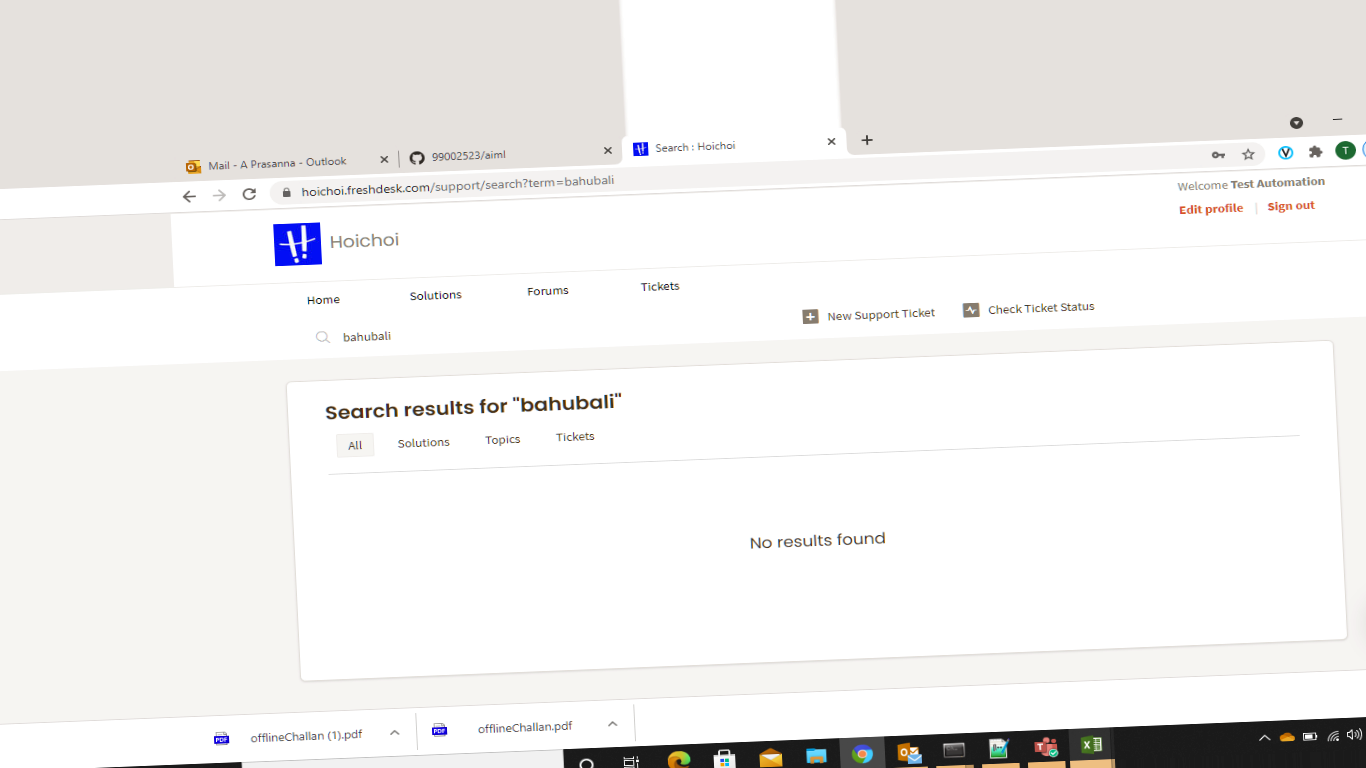noresultsfound: (733, 511, 912, 553)
profileicon: (1174, 198, 1248, 219)
searchicon: (307, 315, 335, 352)
searchtextbox: (304, 315, 657, 356)
